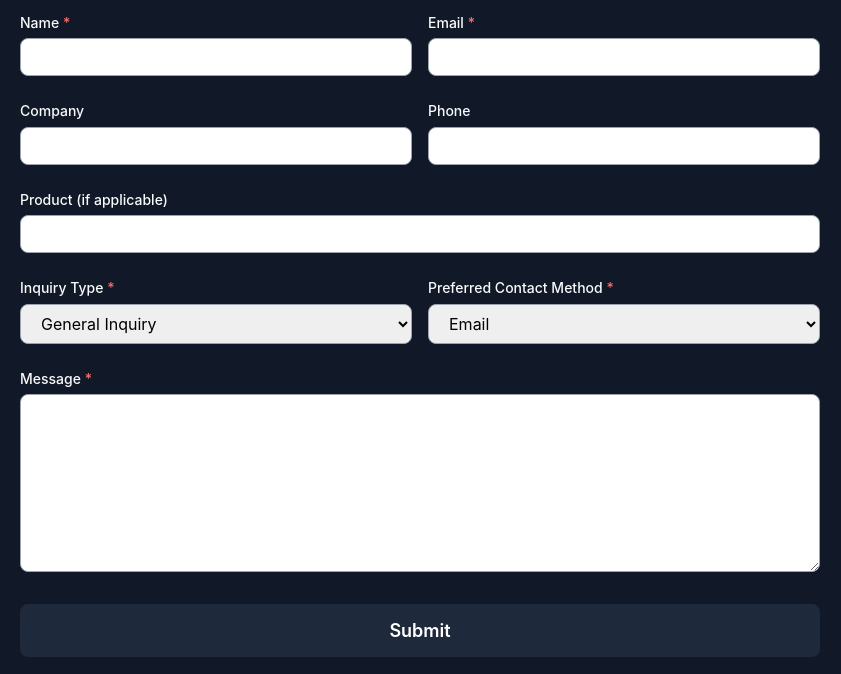
Test case: ContactForm › should show loading state when submitting
The image size is (841, 674).
Type "John Doe" into the field labelled "Name *" at coordinates (216, 57), box [20,38,412,76]
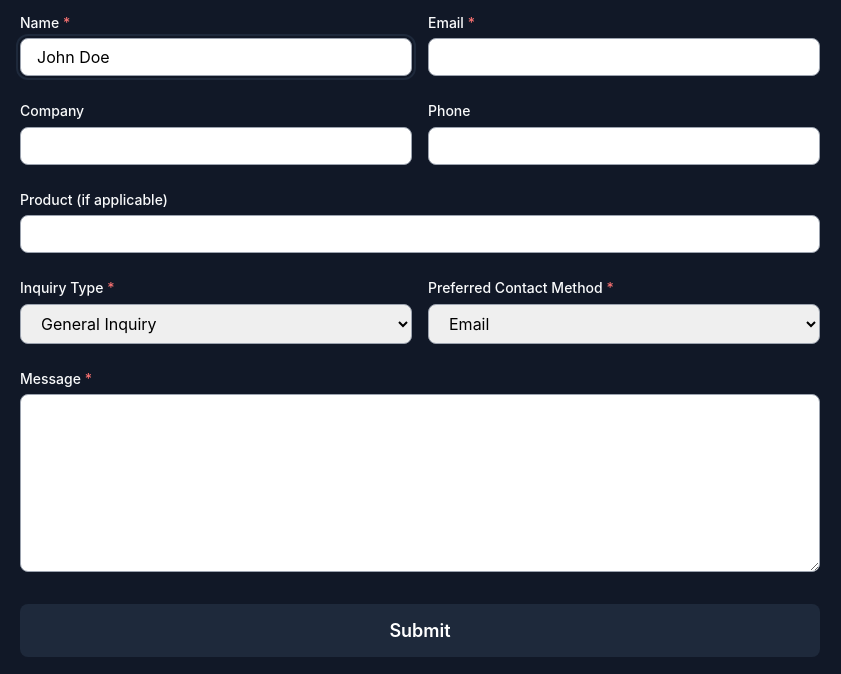
Type "john@example.com" into the field labelled "Email *" at coordinates (624, 57), box [428,38,820,76]
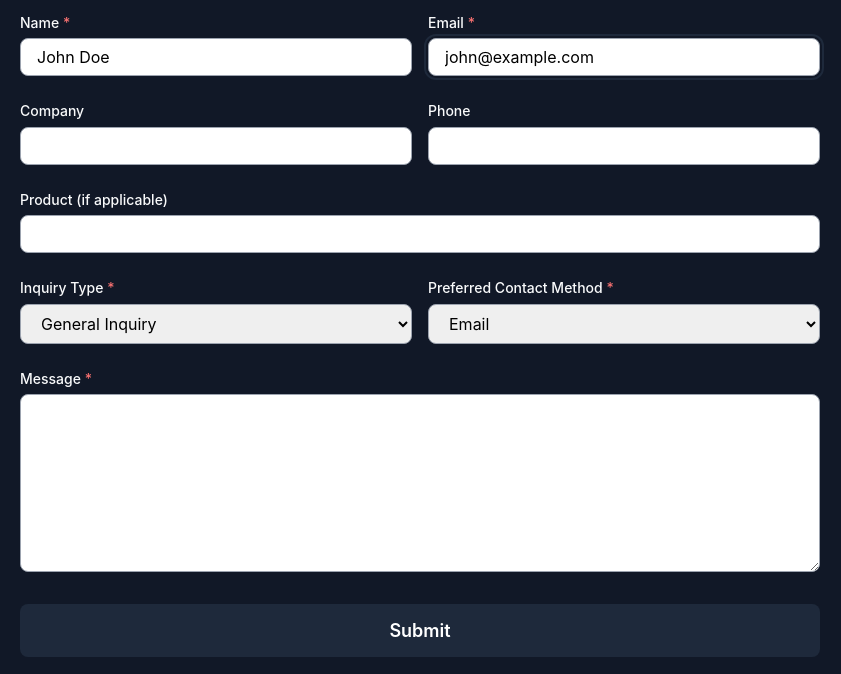
Type "This is a test message with enough characters." into the text box labelled "Message *" at coordinates (420, 483), box [20,394,820,572]
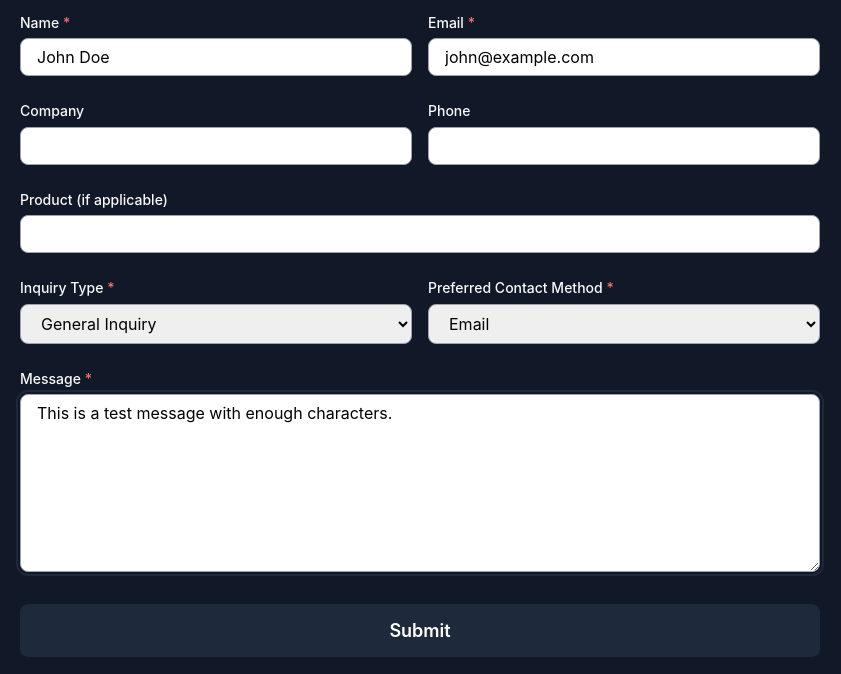
Click the button "Submit" at coordinates (420, 630), box [20,604,820,656]
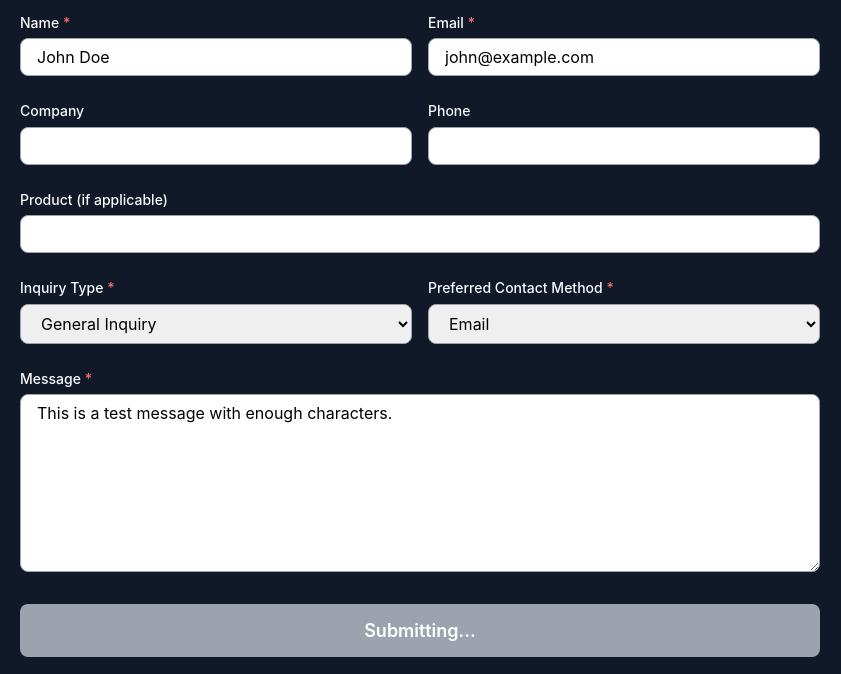
Expected: the button "Submitting..." is shown, [20,604,820,656]
